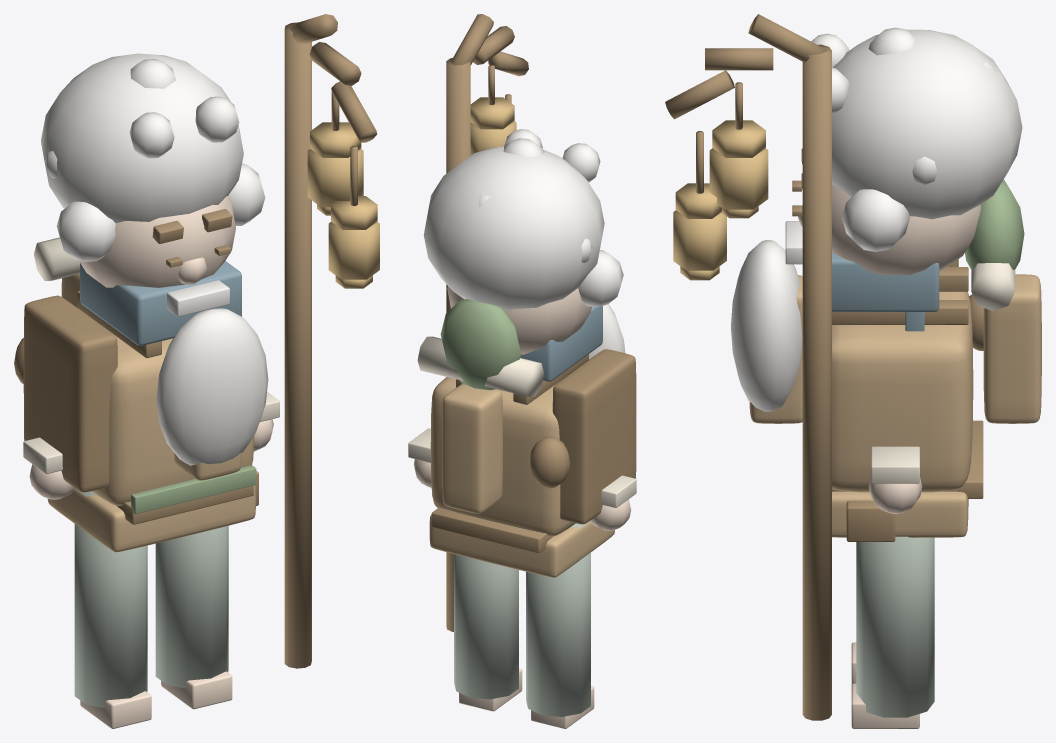
Rendered from npc_eldra_v4_B_clean.glb.
3 views of the same model, side by side, from view 1: azimuth 30°, elevation 25°; view 2: azimuth 150°, elevation 25°; view 3: azimuth 270°, elevation 25° (orthographic). The views are drawn at different scales.
Parts seen in each view (by area): view 1: Hair_Dome, Staff_Pole, Backpack, Beard_Mass, Trousers_L, Trousers_R, Vest_Body, Head_Mesh, Vest_Skirt, Scarf_Front, Hair_Wisp_L, Lantern_2_Body (+21 smaller); view 2: Hair_Dome, Backpack, Trousers_L, Trousers_R, Vest_Body, Sleeve_R, Backpack_Herb, Vest_Skirt, Staff_Pole, Head_Mesh, Bedroll, Belt (+18 smaller); view 3: Hair_Dome, Vest_Body, Staff_Pole, Trousers_R, Beard_Mass, Sleeve_R, Head_Mesh, Scarf_Front, Vest_Skirt, Backpack_Herb, Hair_Wisp_R, Lantern_1_Body (+18 smaller).
Part boxes in pixels (x1,y1,x2,y2): Hair_Dome: (41, 53, 243, 222); Staff_Pole: (284, 22, 311, 668); Backpack: (23, 295, 117, 492); Beard_Mass: (156, 308, 268, 465); Trousers_L: (74, 488, 147, 708); Trousers_R: (155, 526, 228, 688); Vest_Body: (92, 331, 254, 505); Head_Mesh: (79, 196, 235, 287); Vest_Skirt: (47, 485, 255, 552); Scarf_Front: (80, 261, 241, 345); Hair_Wisp_L: (56, 201, 115, 261); Lantern_2_Body: (328, 221, 379, 279); Hair_Dome: (423, 146, 604, 310); Backpack: (552, 349, 636, 524); Trousers_L: (526, 521, 590, 716); Trousers_R: (454, 554, 518, 699); Vest_Body: (430, 377, 575, 536); Sleeve_R: (442, 383, 502, 513); Backpack_Herb: (440, 299, 520, 390); Vest_Skirt: (429, 515, 614, 577); Staff_Pole: (446, 58, 470, 631); Head_Mesh: (447, 286, 591, 354); Bedroll: (417, 336, 544, 396); Belt: (431, 507, 553, 553); Hair_Dome: (832, 29, 1022, 219); Vest_Body: (832, 291, 973, 492); Staff_Pole: (802, 44, 831, 720); Trousers_R: (856, 536, 934, 717); Beard_Mass: (731, 240, 802, 411); Sleeve_R: (983, 274, 1041, 423); Head_Mesh: (832, 185, 980, 274); Scarf_Front: (832, 252, 939, 311); Vest_Skirt: (832, 491, 968, 537); Backpack_Herb: (965, 179, 1024, 269); Hair_Wisp_R: (842, 189, 909, 251); Lantern_1_Body: (709, 148, 768, 209).
Bounding box in the file's own units: 0.6143 × 1.67 × 0.7714.
